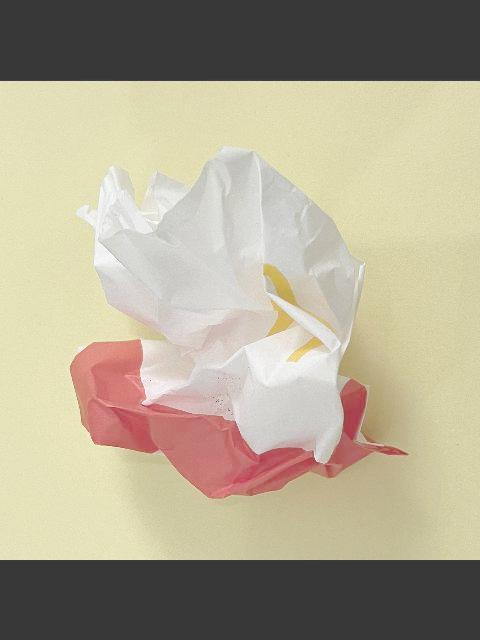paperbag: (66, 141, 412, 499)
